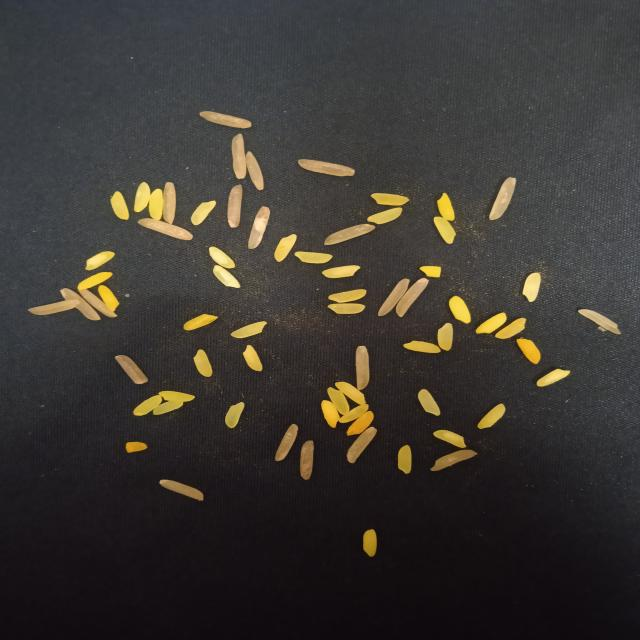Broken: (396, 278, 430, 318), (60, 288, 102, 320), (488, 177, 516, 221), (138, 218, 194, 240), (378, 278, 410, 316), (324, 223, 376, 246), (578, 308, 622, 334), (347, 426, 377, 464), (78, 289, 118, 317), (430, 449, 477, 471), (298, 159, 354, 177), (115, 355, 148, 384), (248, 206, 270, 249), (160, 479, 203, 501), (200, 110, 252, 128), (274, 424, 298, 462), (27, 299, 80, 315), (335, 382, 367, 406), (231, 134, 247, 180), (246, 151, 264, 191), (227, 184, 243, 228), (494, 317, 526, 339), (190, 200, 217, 226), (346, 411, 374, 436), (478, 404, 506, 429), (476, 312, 507, 334), (212, 265, 240, 289), (77, 272, 113, 290), (274, 234, 297, 262), (367, 207, 402, 225), (516, 338, 540, 364), (434, 216, 456, 244), (98, 284, 120, 312), (327, 387, 349, 415), (449, 296, 471, 324), (356, 346, 370, 390), (183, 314, 219, 331), (231, 321, 267, 338), (536, 368, 570, 386), (85, 251, 115, 271), (338, 404, 368, 424), (433, 430, 466, 448), (418, 389, 440, 416), (162, 182, 176, 224), (134, 395, 162, 416), (110, 191, 130, 220), (209, 246, 235, 268), (436, 193, 456, 221), (193, 349, 213, 377), (243, 344, 263, 372), (300, 440, 314, 480), (320, 400, 340, 428), (522, 272, 540, 302), (328, 289, 366, 303), (224, 402, 244, 428), (148, 188, 164, 220), (370, 193, 409, 206), (403, 340, 441, 353), (322, 265, 360, 278), (134, 182, 150, 212), (153, 399, 183, 415), (437, 322, 453, 351), (157, 390, 195, 402), (294, 252, 332, 264), (398, 444, 412, 474), (328, 303, 366, 314), (363, 529, 377, 557), (126, 441, 148, 453), (419, 266, 441, 278)
